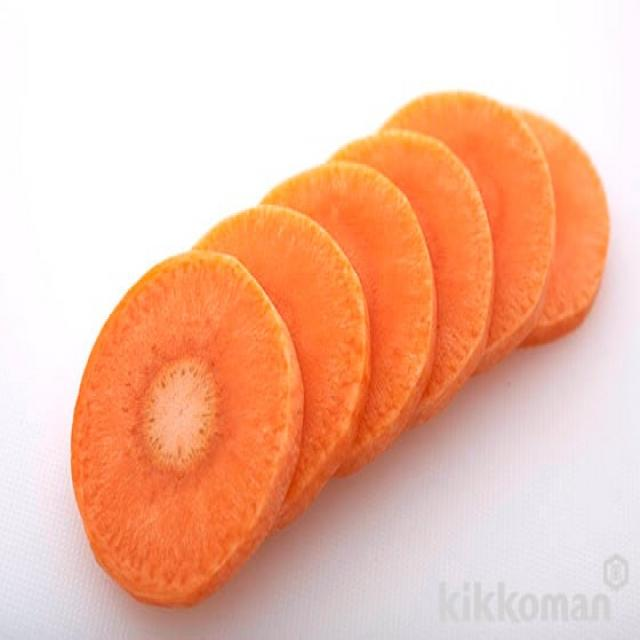carrot: (72, 251, 304, 607), (198, 205, 370, 530), (264, 160, 438, 477)
